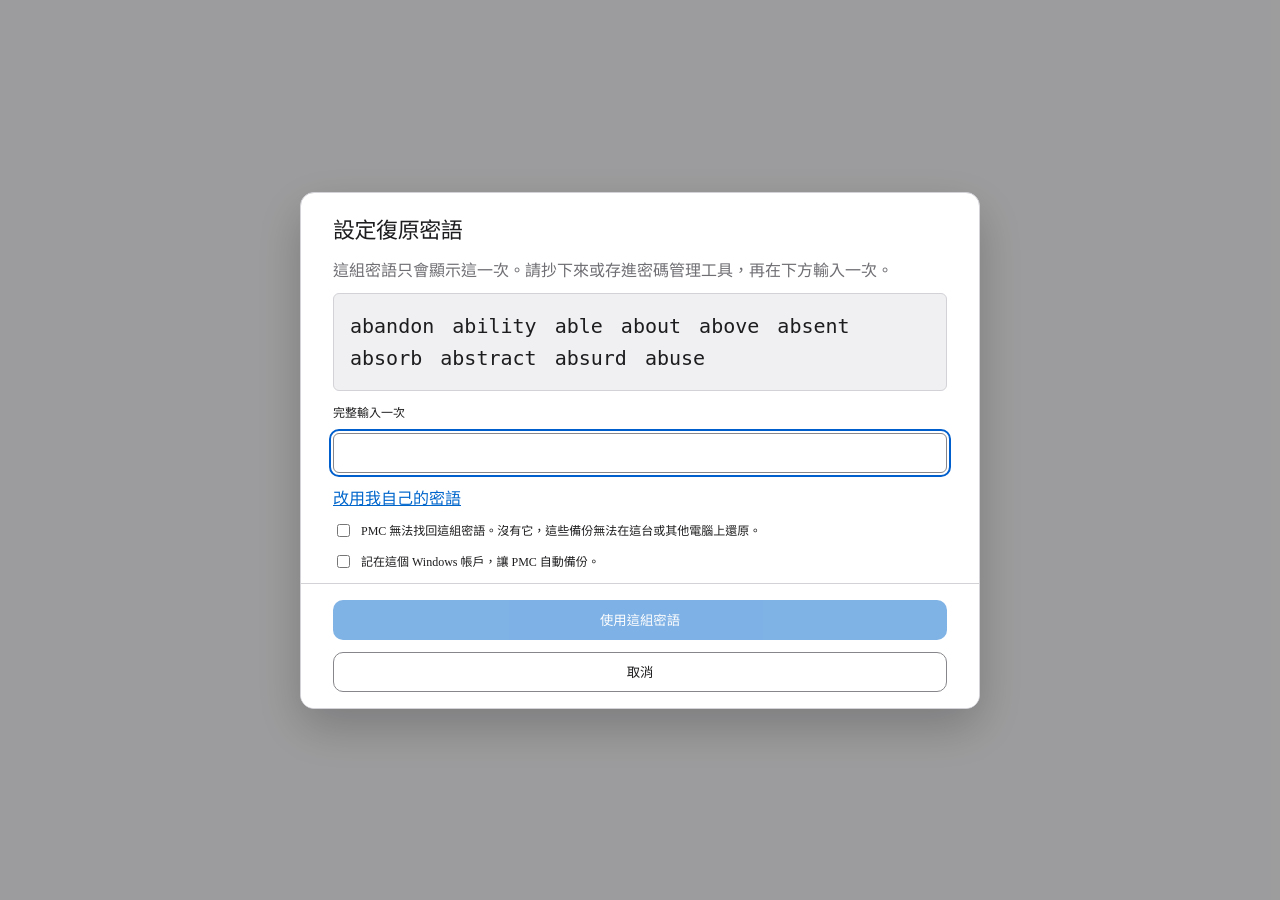
Scenario: the recovery passphrase dialog › never shows the same generated passphrase twice
Expected: the text "abandon ability able about above absent absorb abstract absurd abuse" is shown, left=350, top=314, right=850, bottom=370
Click the button "改用我自己的密語". click: {"x": 397, "y": 496}
box: left=333, top=484, right=461, bottom=508
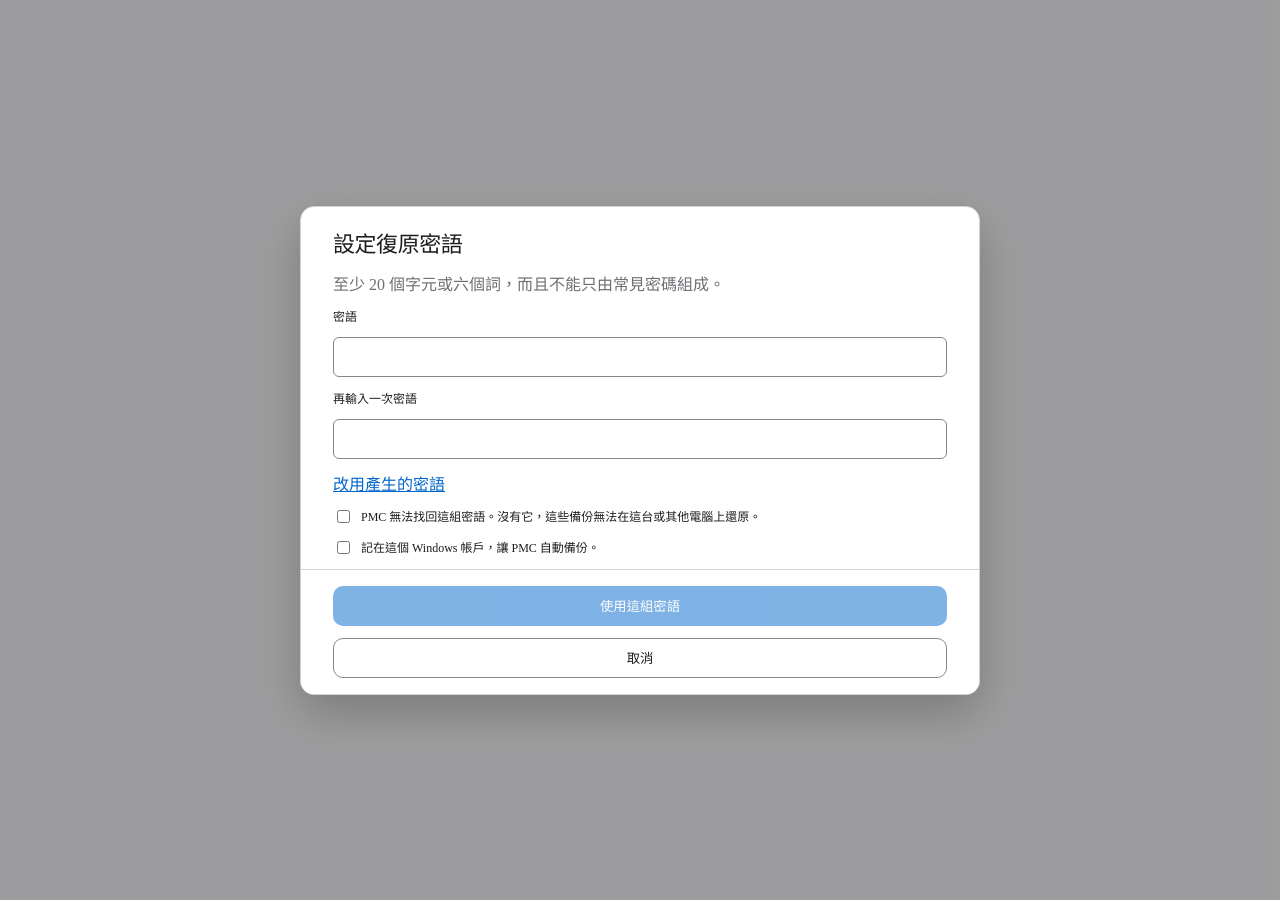
Click the button "改用產生的密語". click: {"x": 389, "y": 482}
box: left=333, top=470, right=445, bottom=494
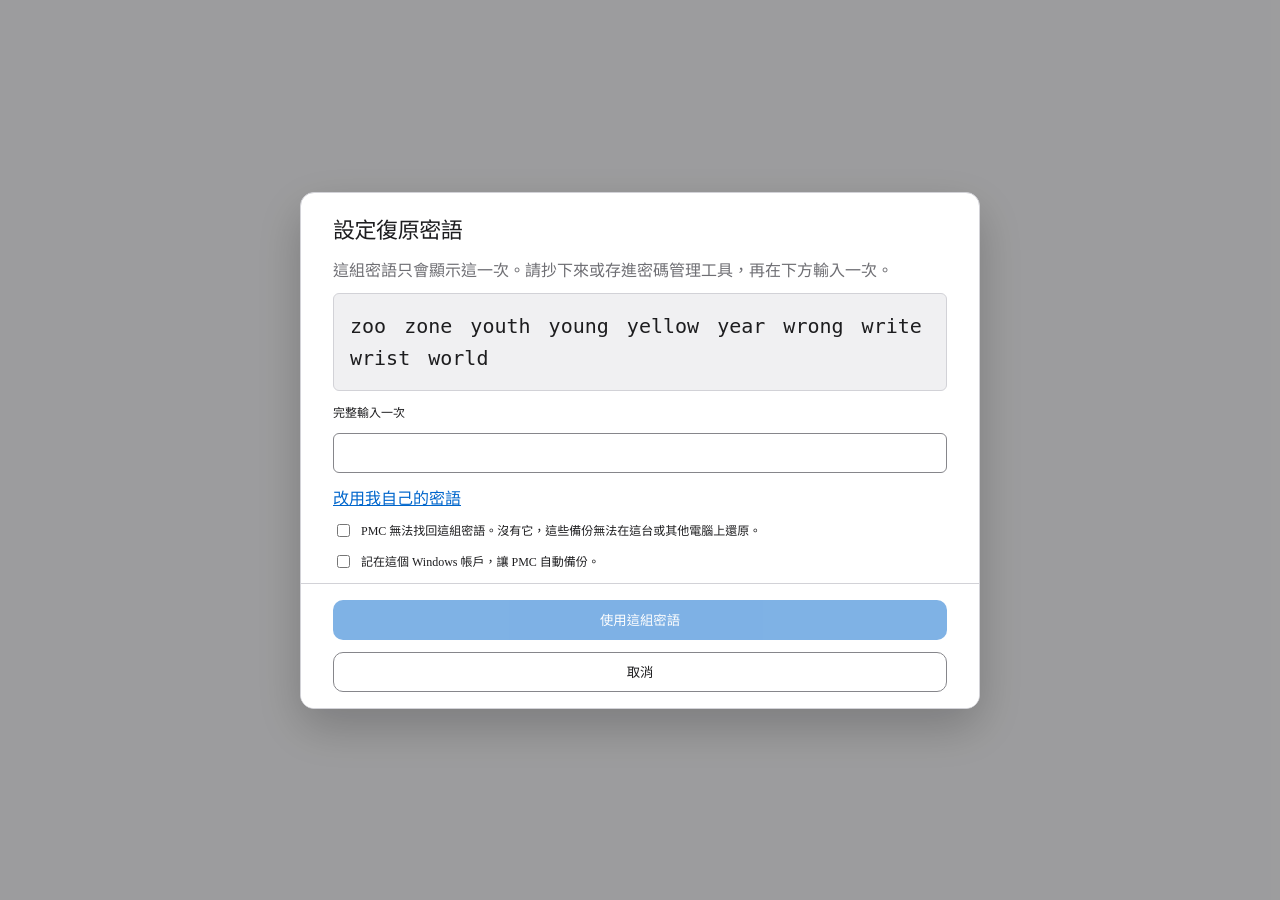
Expected: the text "abandon ability able about above absent absorb abstract absurd abuse" is not shown
Now the text "zoo zone youth young yellow year wrong write wrist world" is shown, box left=350, top=314, right=922, bottom=370
